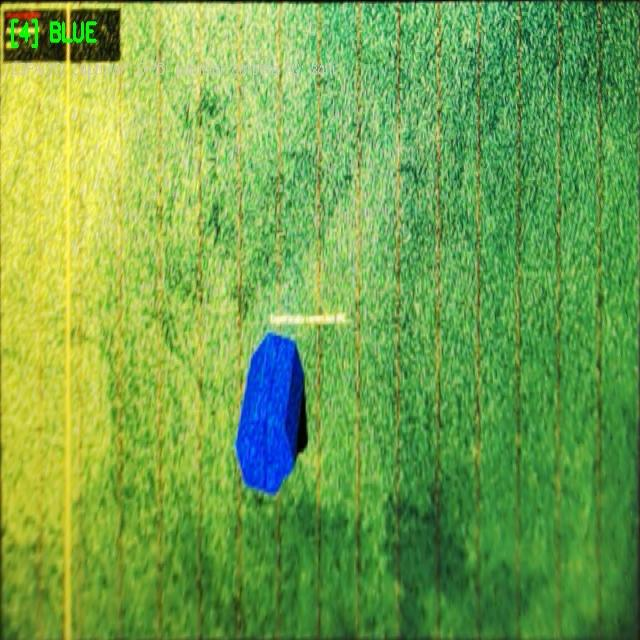blue: (234, 331, 304, 496)
